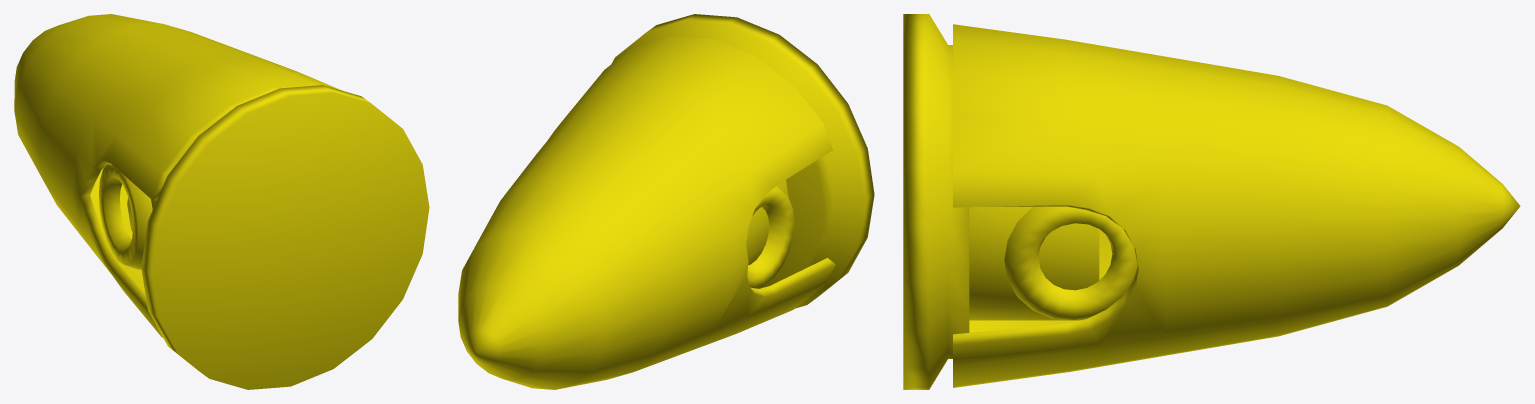
File: Propeller_Mid_Lod0.fbx
3 views of the same model, side by side, from view 1: azimuth 30°, elevation 25°; view 2: azimuth 150°, elevation 25°; view 3: azimuth 270°, elevation 25° (orthographic). The views are drawn at different scales.
Visible parts, largest first — view 1: Propeller_Mid_Lod0; view 2: Propeller_Mid_Lod0; view 3: Propeller_Mid_Lod0.
Part boxes in pixels (x1,y1,x2,y2): Propeller_Mid_Lod0: (14,14,429,389); Propeller_Mid_Lod0: (458,14,874,389); Propeller_Mid_Lod0: (903,14,1520,389).
Bounding box in the file's own units: 33.93 × 33.93 × 55.26.
